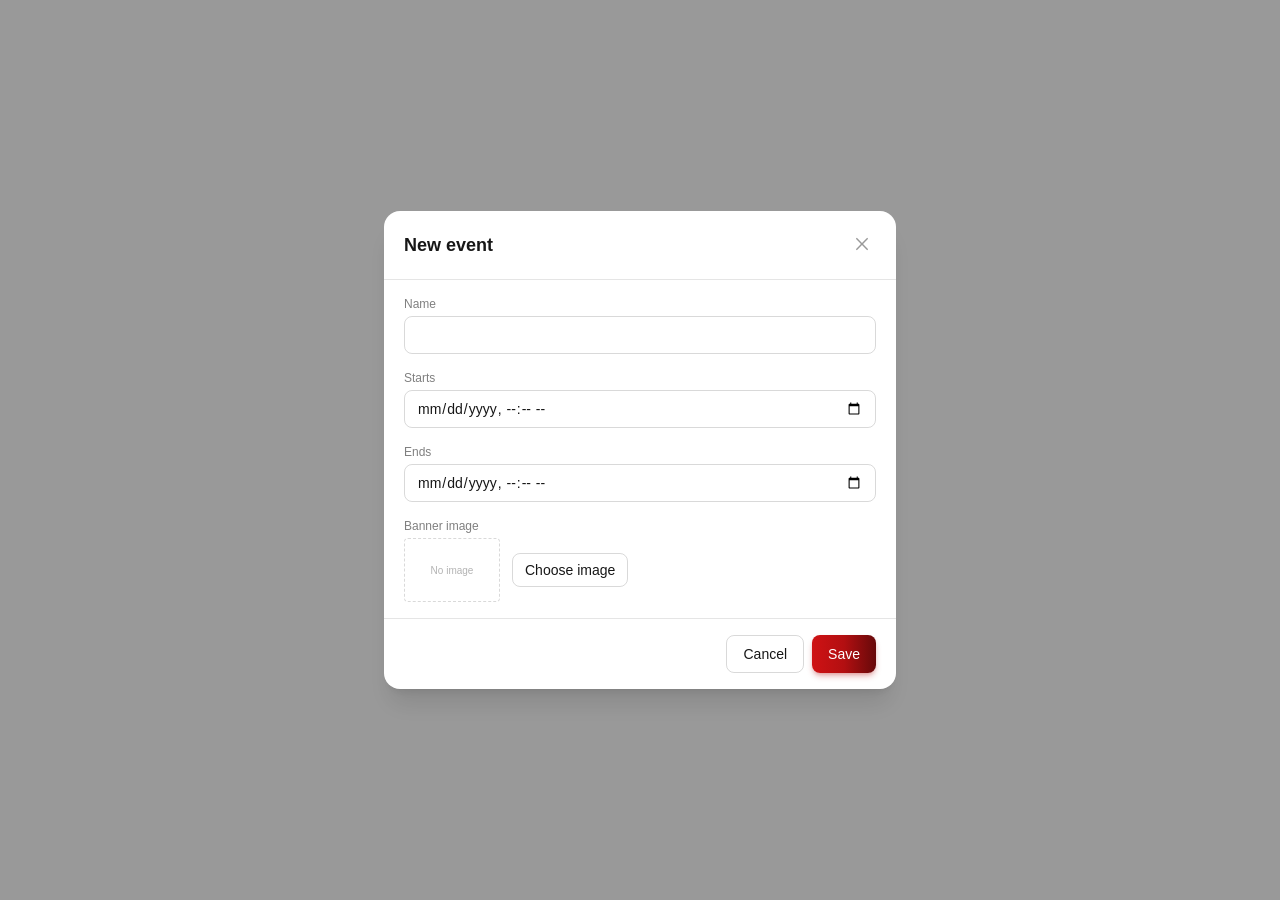
Scenario: EventFormDialog - create › shows error on failure
In the field below "Name": {"x": 640, "y": 335} [404,316,876,354], type "Event"
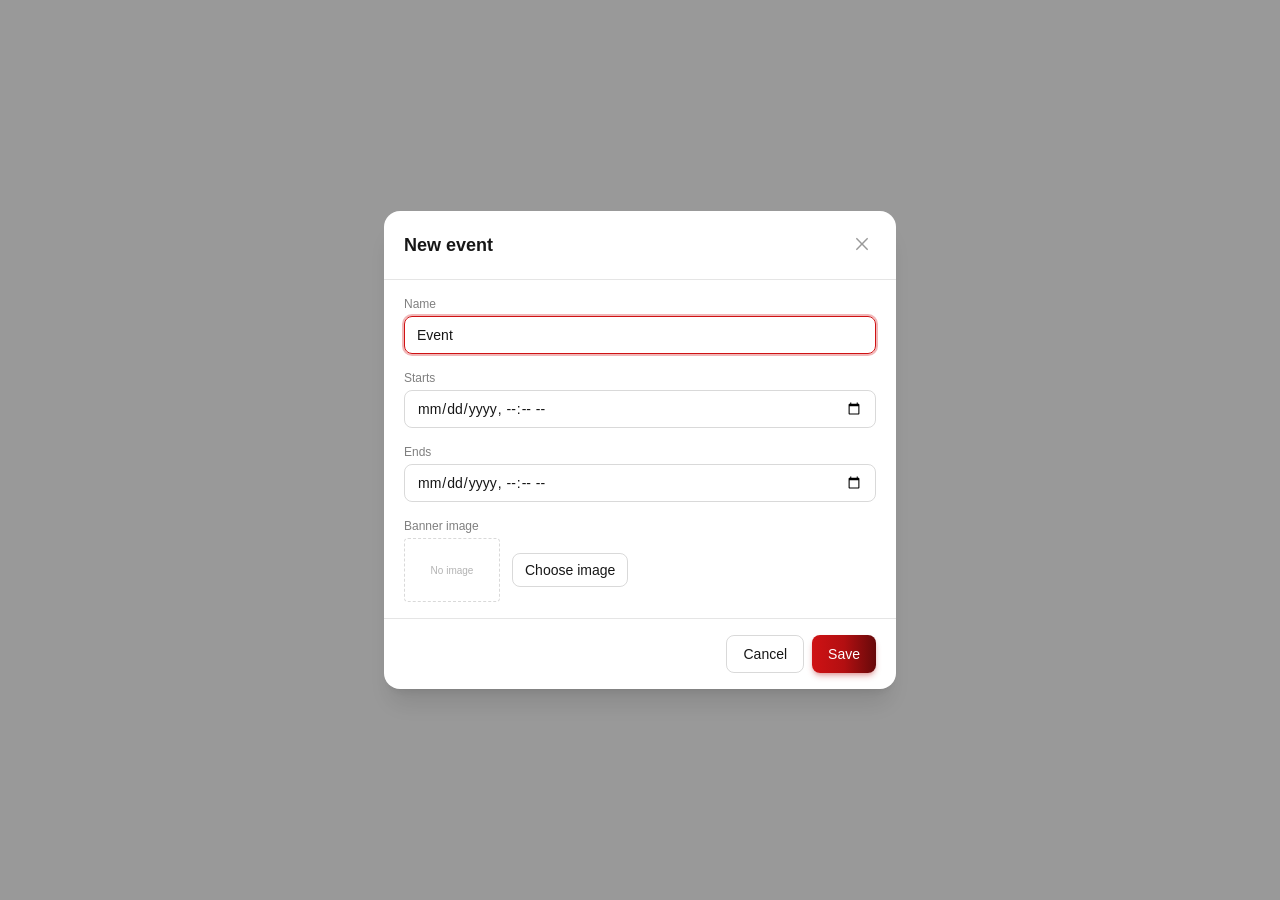
In the field below "Starts": {"x": 640, "y": 409} [404,390,876,428], type "2026-01-01T10:00"
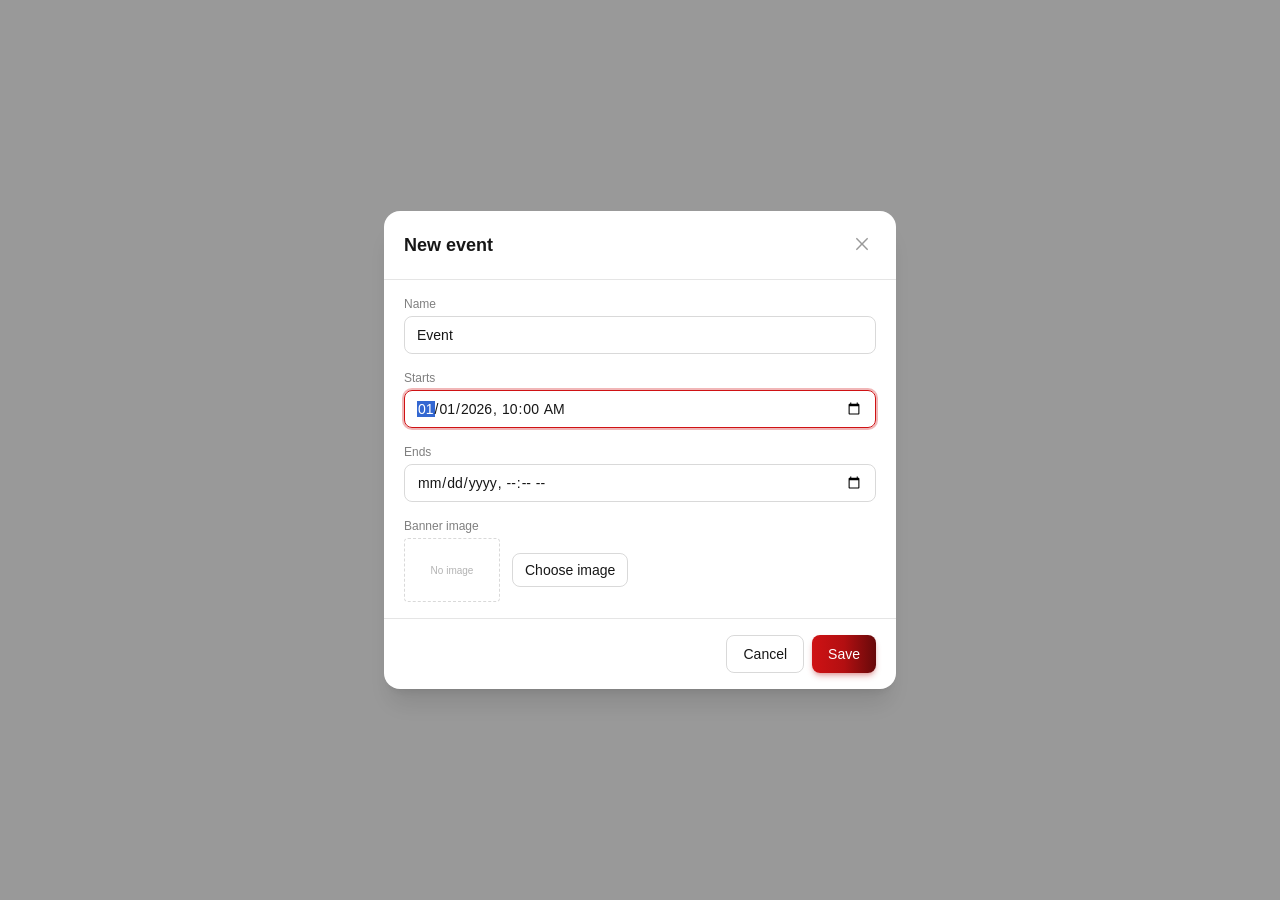
In the field below "Ends": {"x": 640, "y": 483} [404,464,876,502], type "2026-01-02T10:00"
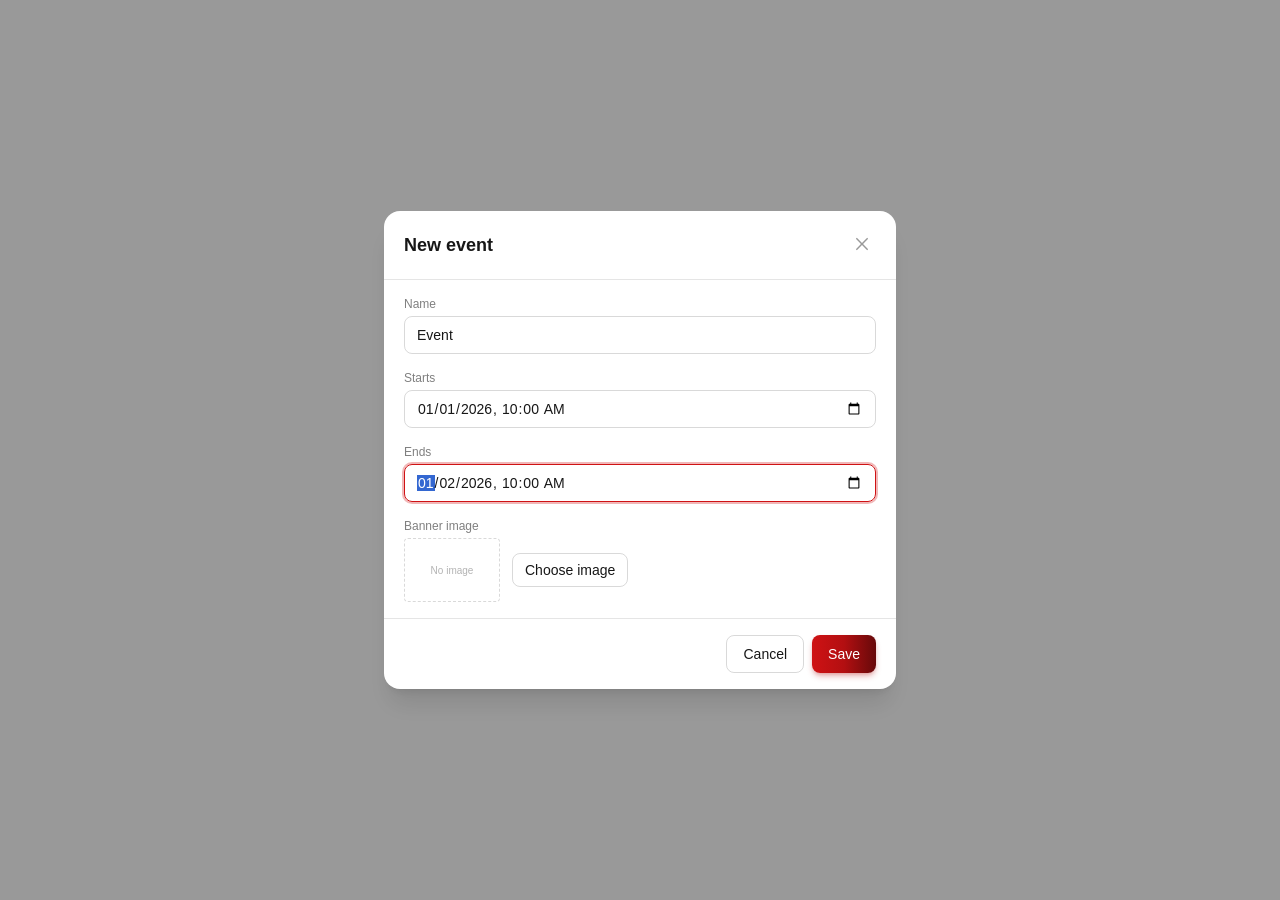
Click the button "Save": {"x": 844, "y": 654} [812,635,876,673]
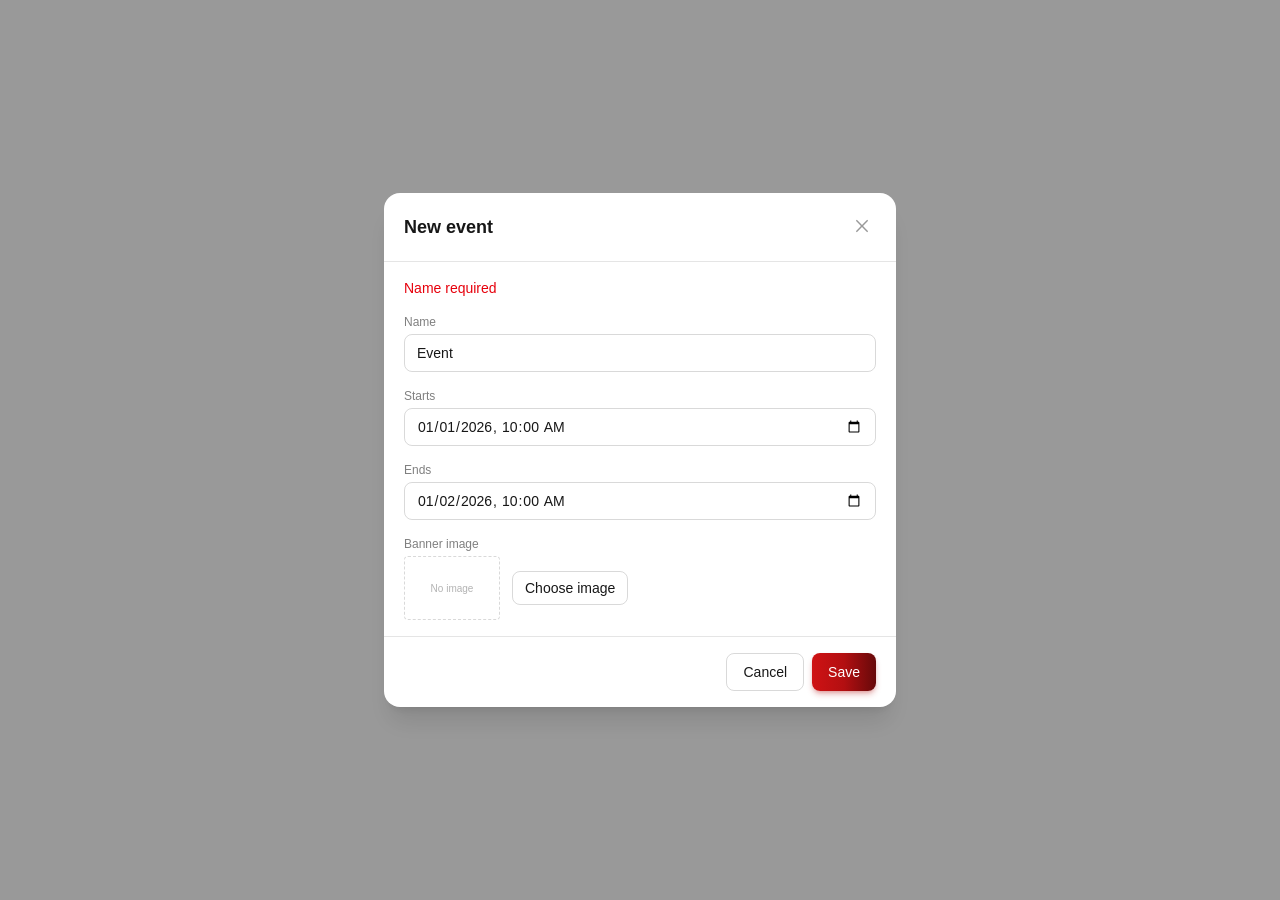
Now the text "Name required" is shown, box [404,280,497,296]
